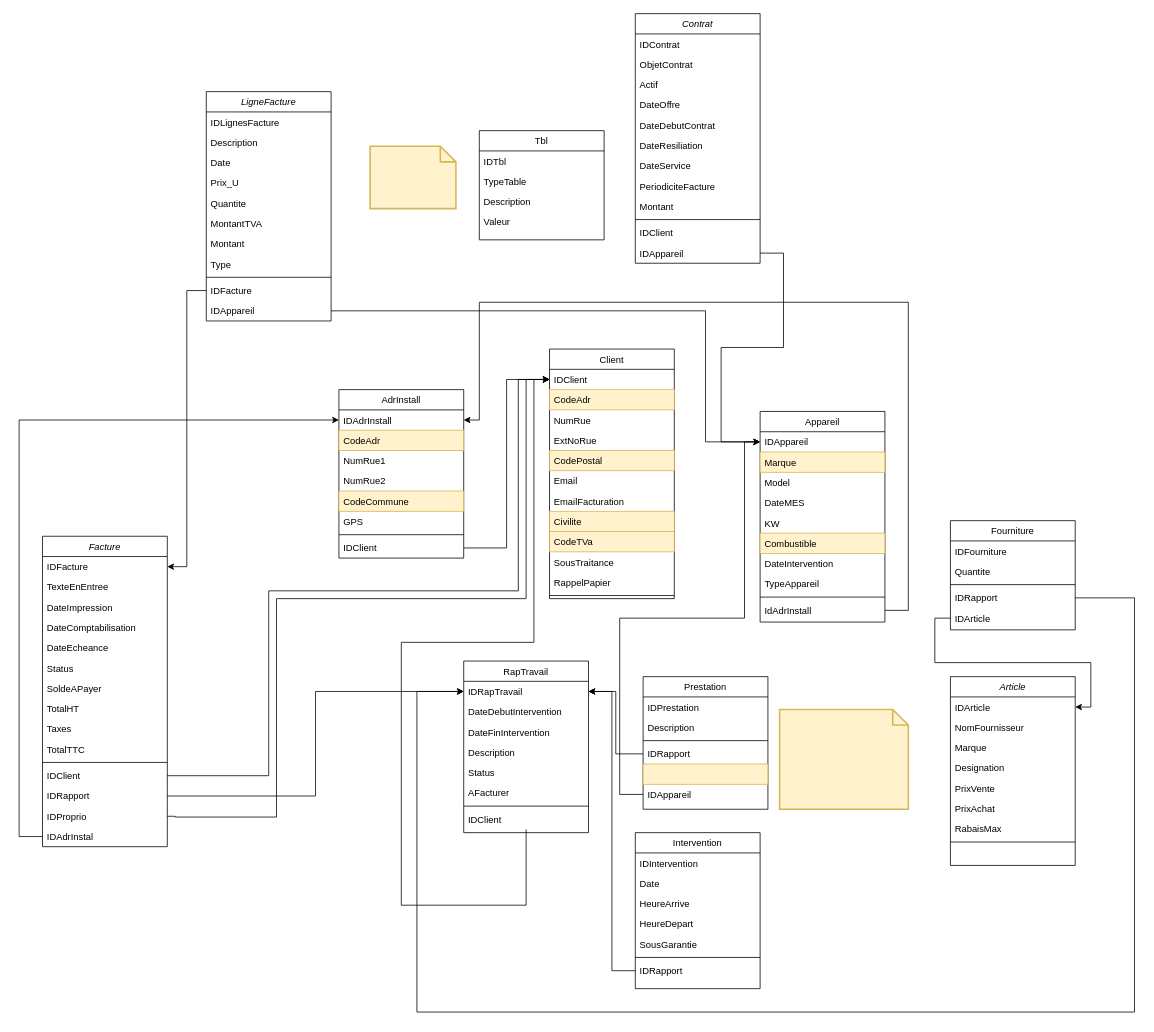
Some shapes in this 1154 by 1032 pixel diagram are drawn without their labels. Each missing label, with the centre of its shape:
All yellow field are related to Tbl: the point at 412,177
Can only take in account Description field it's a copy of value in TBL: the point at 843,759
IDTable: the point at 705,773
